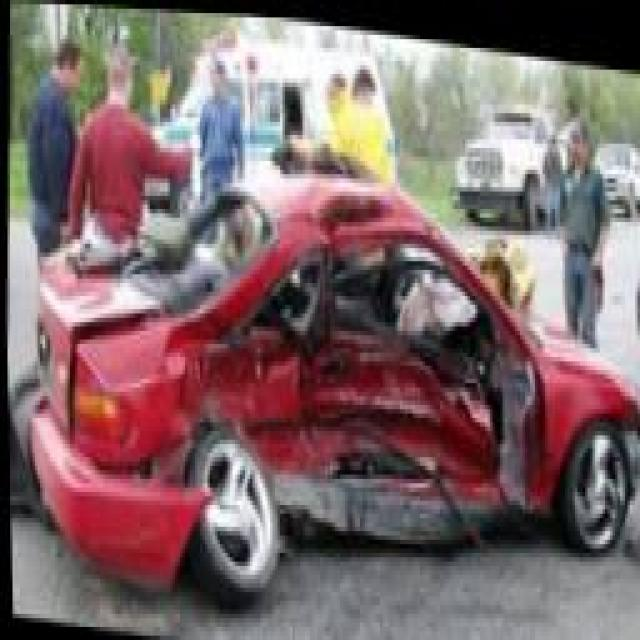Door: (308, 213, 520, 524)
Fender: (192, 287, 310, 437)
Windshield: (150, 157, 270, 285)
